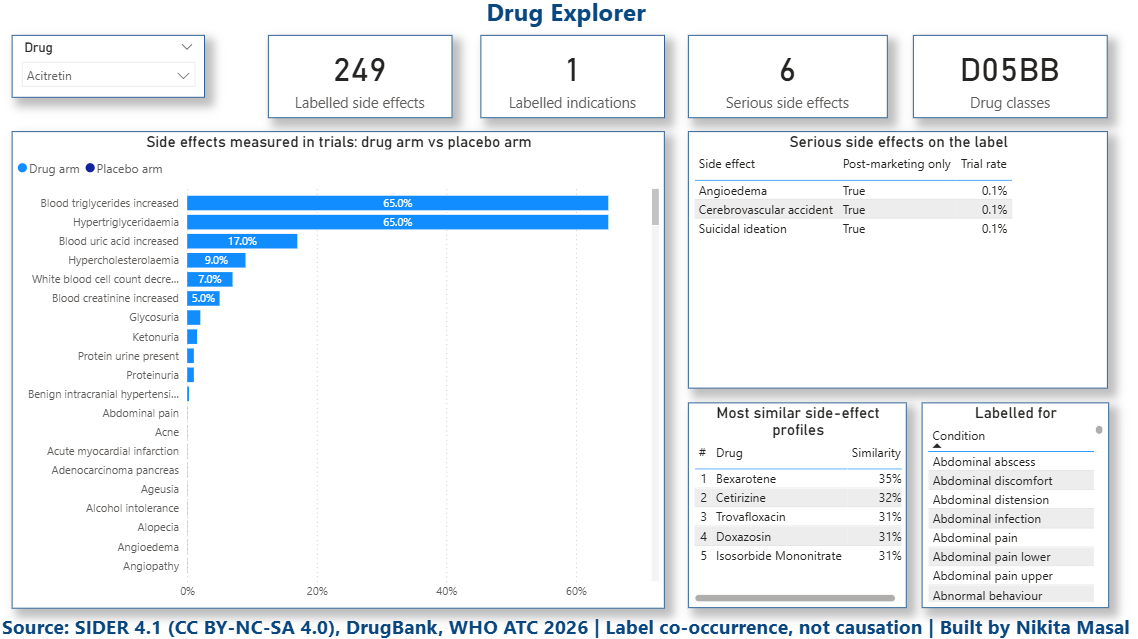

Layout of this report page (visuals, bound fields, positions):
{"tool":"powerbi","page":{"name":"Drug Explorer","canvas":[1280,720],"ordinal":2},"visuals":[{"type":"textbox","box":[0,0,1280,49.6],"z":1},{"type":"textbox","box":[0,678.9,1280,40.9],"z":2},{"type":"slicer","fields":{"Values":["dim_drug.drug_name"]},"box":[31.1,49.6,212,69.1],"z":3},{"type":"card","fields":{"Values":["Measures (2).Labelled side effects"]},"box":[312.2,49.6,202.3,91.4],"z":4},{"type":"card","fields":{"Values":["Measures (2).Labelled indications"]},"box":[545.7,49.6,202.3,91.4],"z":5},{"type":"card","fields":{"Values":["Measures (2).Serious side effects"]},"box":[774.2,49.6,218.8,91.4],"z":6},{"type":"card","fields":{"Values":["Measures (2).Drug classes"]},"box":[1021.3,49.6,214,91.4],"z":7},{"type":"barChart","title":"Side effects measured in trials: drug arm vs placebo arm","fields":{"Category":["dim_side_effect.side_effect_name"],"Y":["Avg(fact_drug_side_effect.freq_drug)","Avg(fact_drug_side_effect.freq_placebo)"]},"box":[31.1,154.7,716.8,524.3],"z":8},{"type":"tableEx","title":"Serious side effects on the label","fields":{"Values":["dim_side_effect.side_effect_name","fact_drug_side_effect.postmarketing_only","Avg(fact_drug_side_effect.freq_drug)"]},"box":[774.2,154.7,461,282.1],"z":9},{"type":"tableEx","title":"Most similar side-effect profiles","fields":{"Values":["an_drug_neighbours.rank","an_drug_neighbours.similar_drug_name","Avg(an_drug_neighbours.jaccard)"]},"box":[774.2,453.3,240.2,225.7],"z":10},{"type":"tableEx","title":"Labelled for","fields":{"Values":["dim_condition.condition_name"]},"box":[1030,453.3,205.2,225.7],"z":11}]}

Visuals, with their boxes in screenshot pixels (x1, y1, x2, y2), scaled from the page's 1280x720 canvas onto the 1138x639 screenshot:
textbox: x1=0 y1=0 x2=1137 y2=44
textbox: x1=0 y1=603 x2=1137 y2=638
slicer - dim_drug.drug_name: x1=28 y1=44 x2=216 y2=105
card - Measures (2).Labelled side effects: x1=278 y1=44 x2=457 y2=125
card - Measures (2).Labelled indications: x1=485 y1=44 x2=665 y2=125
card - Measures (2).Serious side effects: x1=688 y1=44 x2=883 y2=125
card - Measures (2).Drug classes: x1=908 y1=44 x2=1098 y2=125
"Side effects measured in trials: drug arm vs placebo arm" barChart: x1=28 y1=137 x2=665 y2=603
"Serious side effects on the label" tableEx: x1=688 y1=137 x2=1098 y2=388
"Most similar side-effect profiles" tableEx: x1=688 y1=402 x2=902 y2=603
"Labelled for" tableEx: x1=916 y1=402 x2=1098 y2=603
